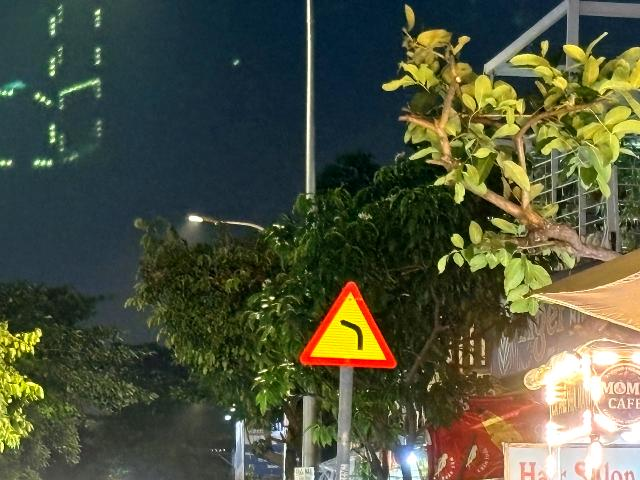cho-ngoat-nguy-hiem-ben-trai: (299, 282, 397, 369)
